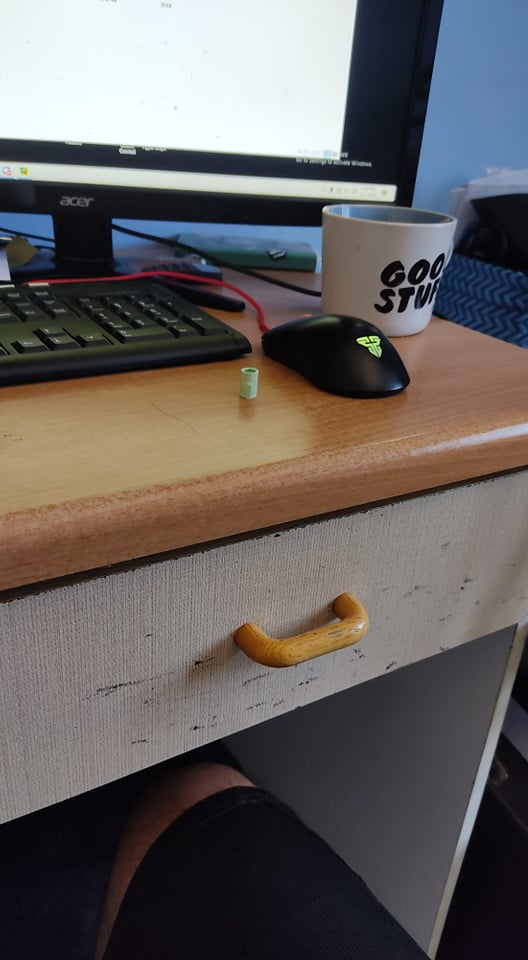green_bucking: (232, 362, 265, 405)
